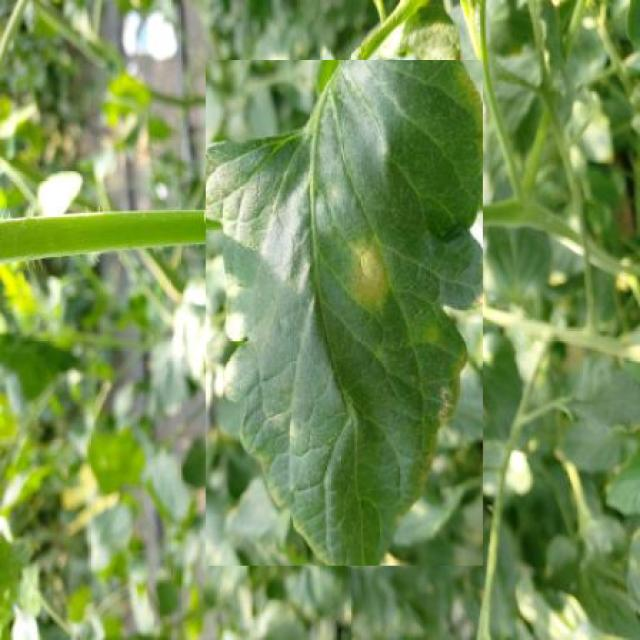Leaf Mold: (206, 60, 483, 566)
